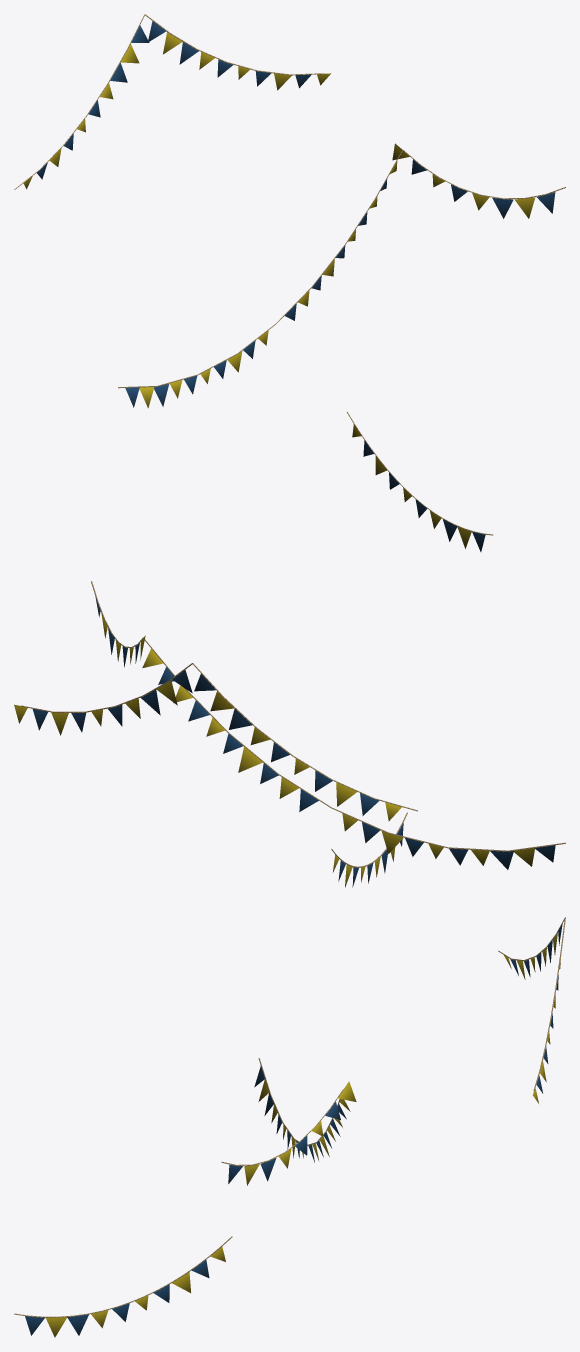
File: MSH_Vimplar_004.fbx
The picture shows the model from 3 angles, top to bottom: view 1: azimuth 30°, elevation 25°; view 2: azimuth 150°, elevation 25°; view 3: azimuth 270°, elevation 25°; orthographic projection. The views are drawn at different scales.
Parts seen in each view (by area): view 1: MSH_Vimplar.004; view 2: MSH_Vimplar.004; view 3: MSH_Vimplar.004.
Boxes of the visible parts, bbox=[...] form: MSH_Vimplar.004: bbox=[14, 14, 565, 551]; MSH_Vimplar.004: bbox=[14, 581, 565, 887]; MSH_Vimplar.004: bbox=[14, 917, 565, 1337].
Size of the model in its own units: 2622 by 2172 by 2827.
